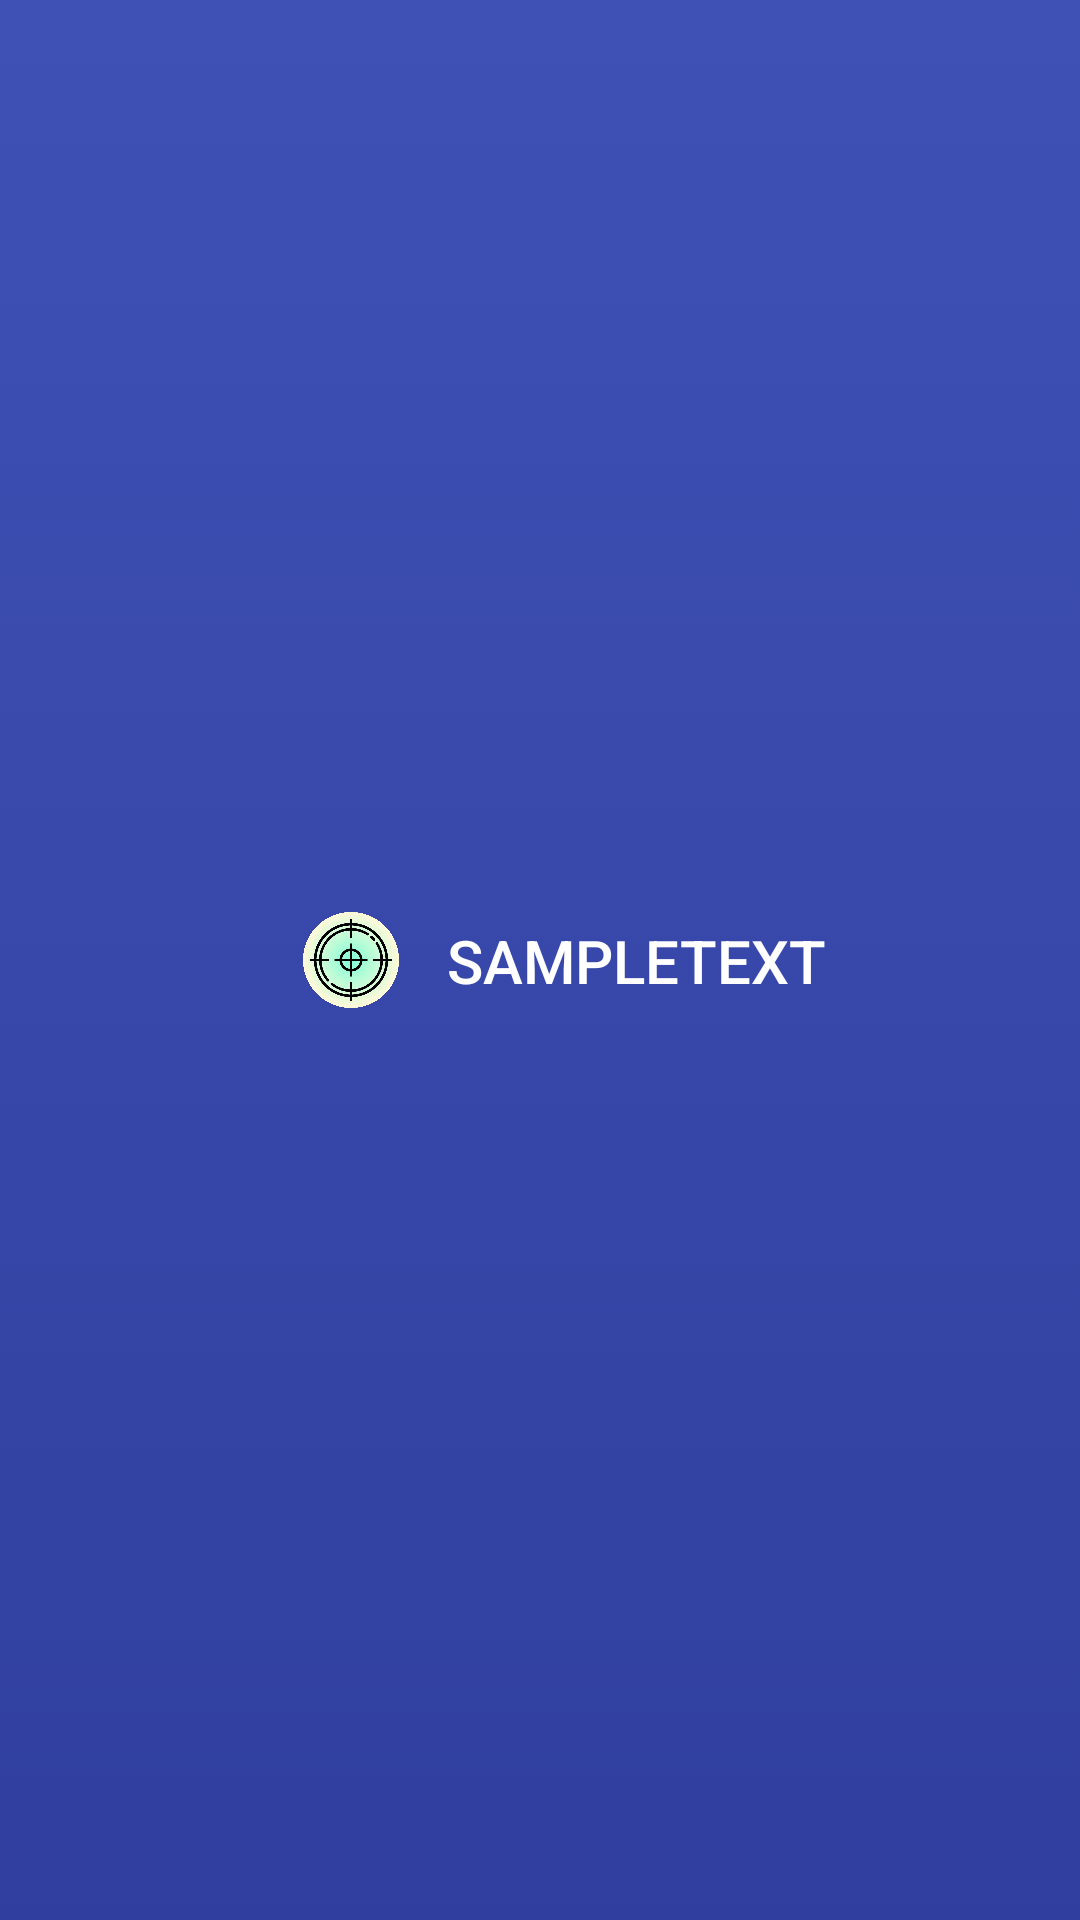

Where to tap for icons on this 1080 × 1920 app screen, as point (x, y):
Sharp Eyes Icon: point (351, 960)
